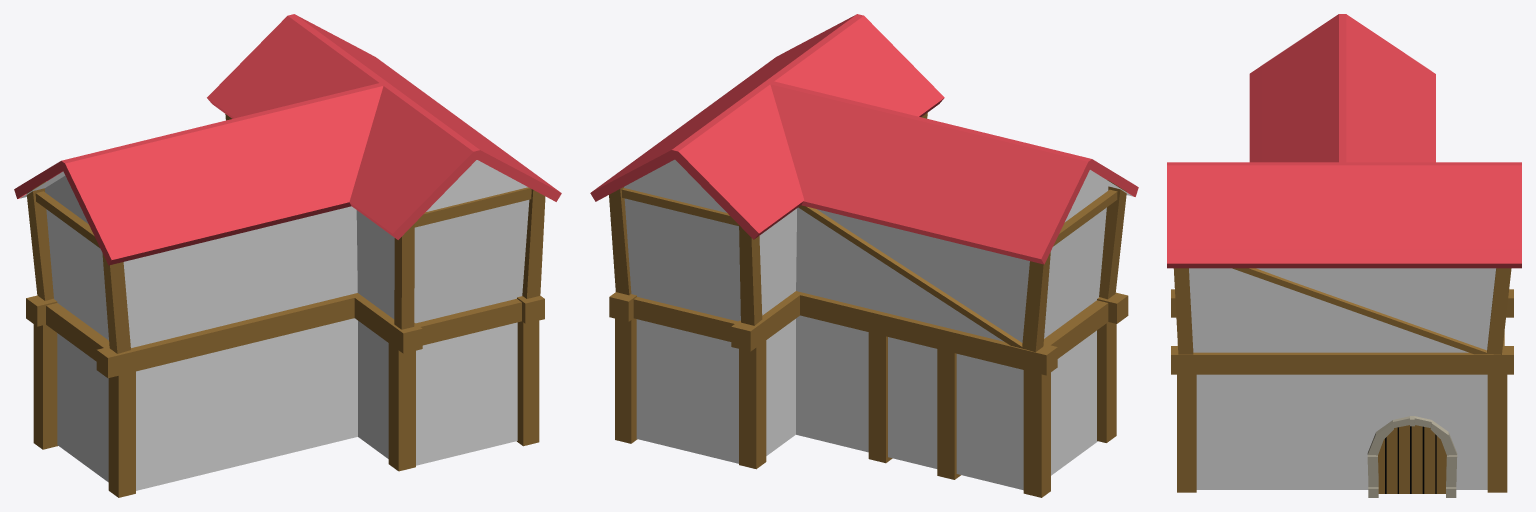
The model's file is med_housevariant1.fbx.
3 views of the same model, side by side, from view 1: azimuth 30°, elevation 25°; view 2: azimuth 150°, elevation 25°; view 3: azimuth 270°, elevation 25° (orthographic). The views are drawn at different scales.
Visible parts, largest first — view 1: House.001, Roof.001, House, Roof, Beams.001, Beams; view 2: House.001, Roof.001, House, Roof, Beams.001, Beams; view 3: House, Roof, Roof.001, Beams, Doorpanels, Doorframe, Door.
Boxes of the visible parts, x1,y1,x2,y2 form: House.001: (20, 171, 357, 490); Roof.001: (14, 82, 386, 265); House: (356, 160, 529, 465); Roof: (207, 14, 561, 239); Beams.001: (26, 181, 361, 497); Beams: (225, 114, 545, 471); House.001: (796, 170, 1132, 490); Roof.001: (767, 81, 1138, 264); House: (624, 159, 796, 463); Roof: (590, 14, 944, 239); Beams.001: (793, 180, 1128, 497); Beams: (609, 113, 960, 479); House: (1189, 268, 1495, 489); Roof: (1167, 162, 1521, 268); Roof.001: (1249, 14, 1435, 163); Beams: (1171, 268, 1513, 492); Doorpanels: (1378, 425, 1446, 493); Doorframe: (1367, 416, 1457, 497); Door: (1385, 426, 1436, 493).
Bounding box in the file's own units: 503 × 636 × 471.
